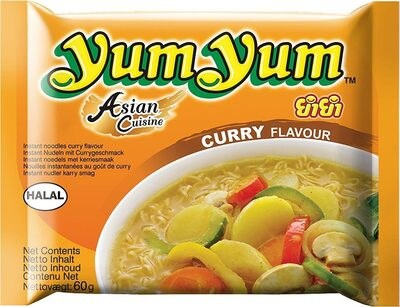Curry Flavour: (20, 15, 380, 292)
